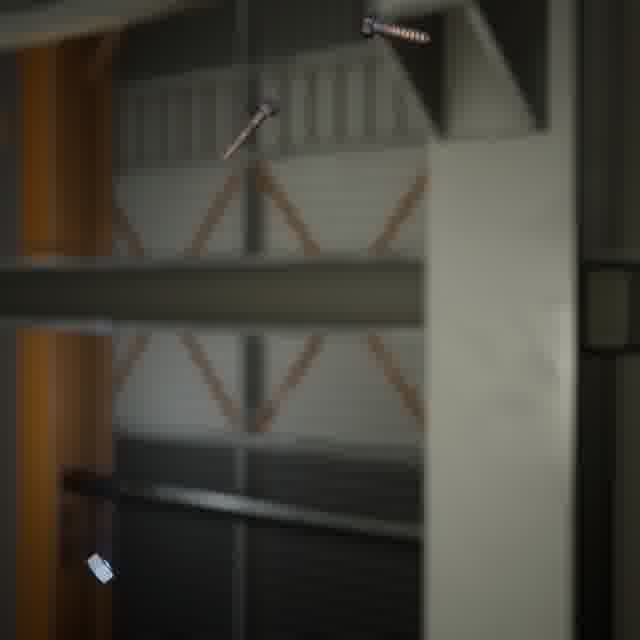bolt: (213, 92, 282, 170), (356, 6, 434, 49)
nut: (82, 548, 121, 588)
